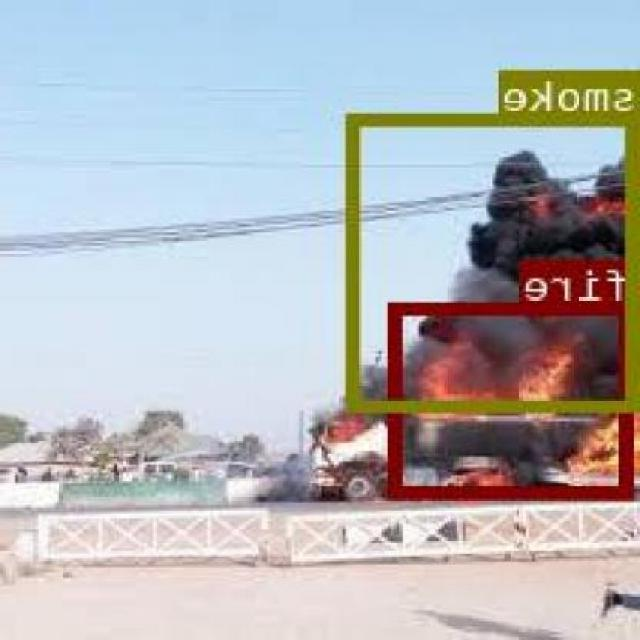Fire: (392, 302, 634, 496)
Smoke: (352, 110, 640, 408)
